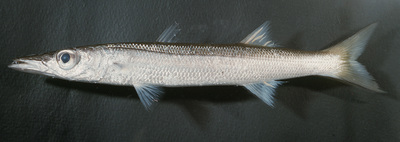fish: (7, 20, 387, 109)
